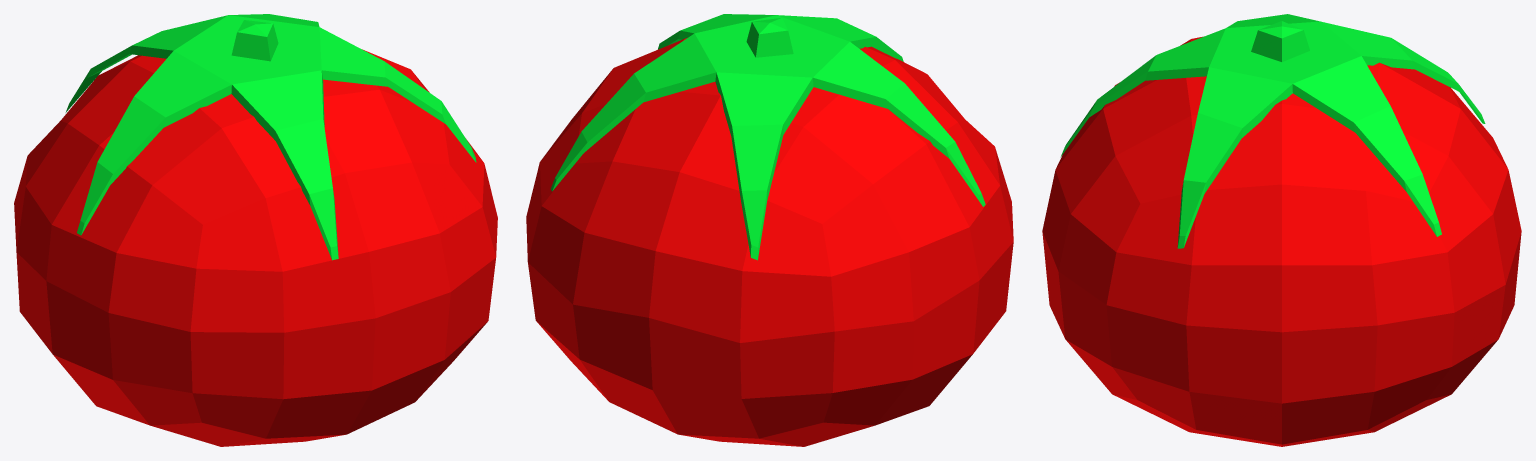
File: Tomato.fbx
3 renders of one model, left to right at view 1: azimuth 30°, elevation 25°; view 2: azimuth 150°, elevation 25°; view 3: azimuth 270°, elevation 25°, orthographic.
Parts seen in each view (by area): view 1: Tomato.001; view 2: Tomato.001; view 3: Tomato.001.
Boxes of the visible parts, x1,y1,x2,y2 form: Tomato.001: (14, 14, 497, 446); Tomato.001: (526, 14, 1013, 446); Tomato.001: (1042, 14, 1521, 446).
Size of the model in its own units: 5.58 by 5.03 by 5.58.
